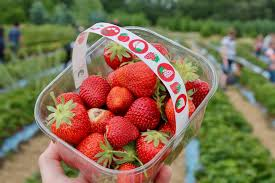ripe: (110, 60, 159, 96), (47, 103, 92, 142), (135, 124, 173, 165), (76, 132, 114, 171), (125, 94, 163, 128), (76, 73, 111, 109), (103, 114, 137, 147), (163, 95, 194, 131), (102, 41, 134, 68), (103, 86, 134, 113), (185, 73, 209, 107), (83, 107, 113, 131), (53, 91, 84, 111)
